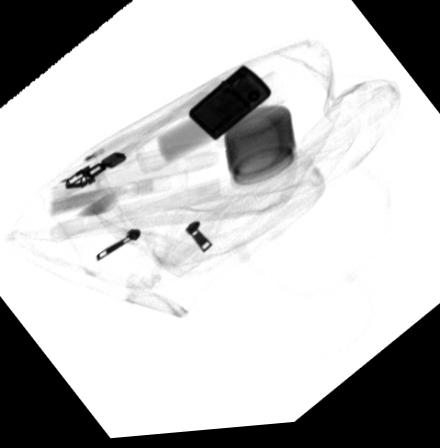Lighter: (188, 67, 272, 143)
